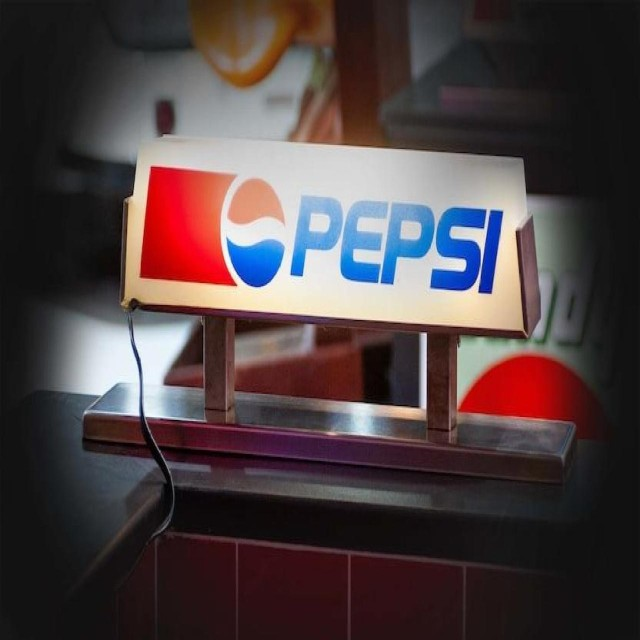pepsi: (222, 172, 287, 291)
